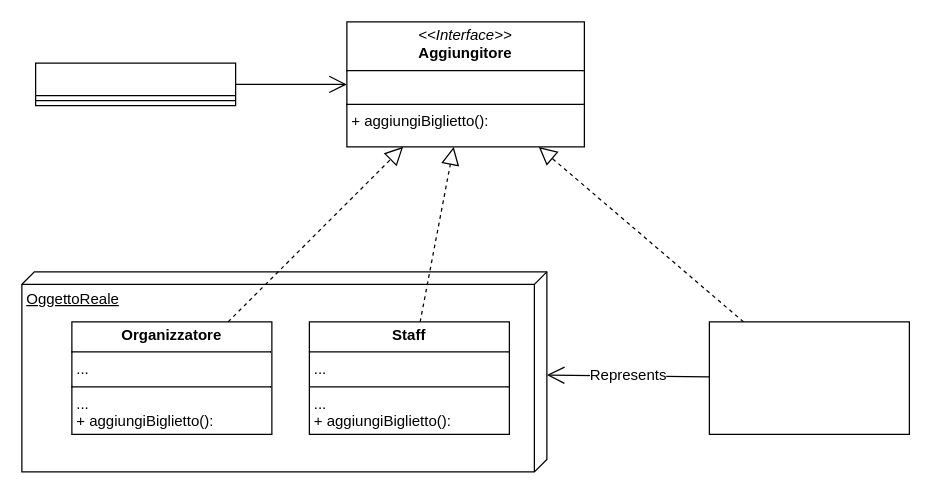
Image size: 931x494. Some labels were removed from this diagram. The shapes that lost their labels are listed below. From the top down, each one's centre as x and y in pixels, then its label:
[135,84]: Biglietto
[808,377]: ProxyBiglietto ... ... + aggiungiBiglietto():
